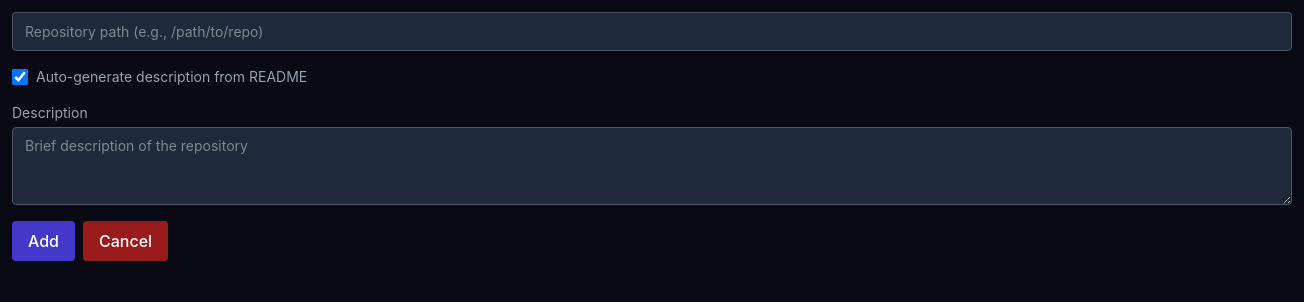
Test: RegisterExistingPathForm › blocks submit when auto-generate is off and description is blank
In the field with placeholder "Repository path (e.g., /path/to/repo)": (652, 32) top-left (12, 12), bottom-right (1292, 51), type "/path/to/repo"
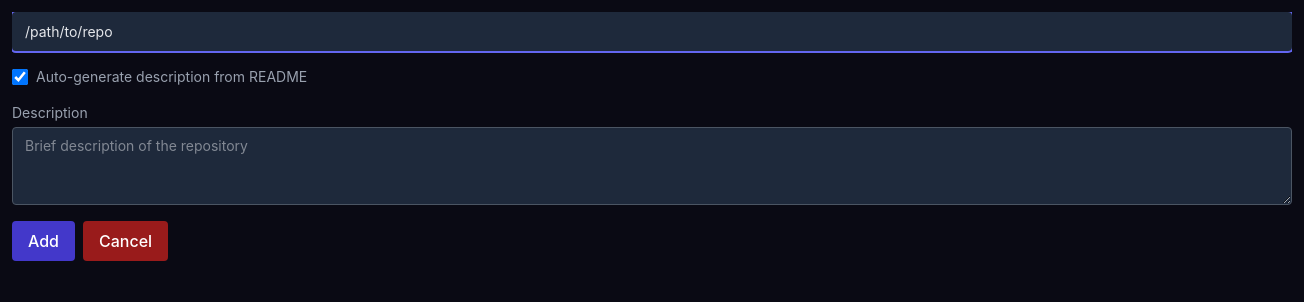
Click the checkbox labelled "Auto-generate description from README": (20, 77) top-left (12, 69), bottom-right (28, 85)
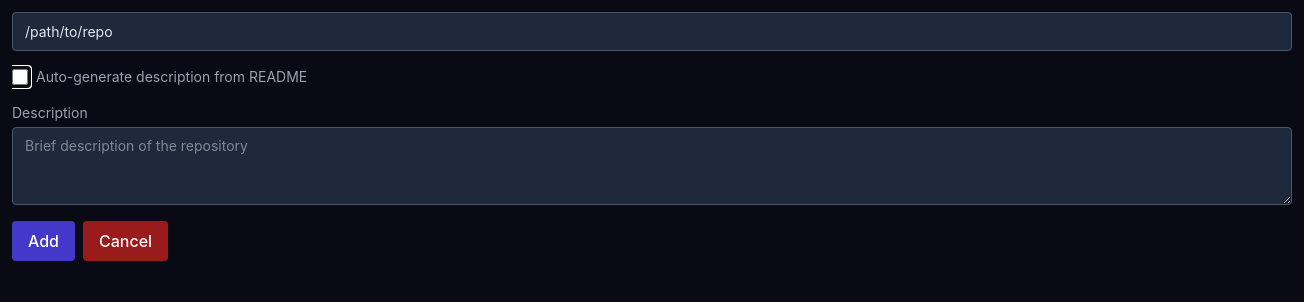
Click the button "Add": (44, 241) top-left (12, 221), bottom-right (75, 261)
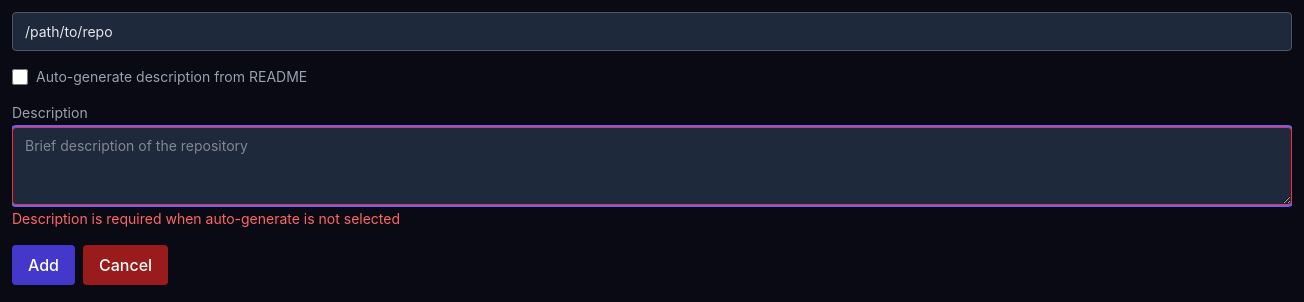
expect the text "Description is required when auto-generate is not selected" is shown: met, box top-left (12, 210), bottom-right (400, 227)
